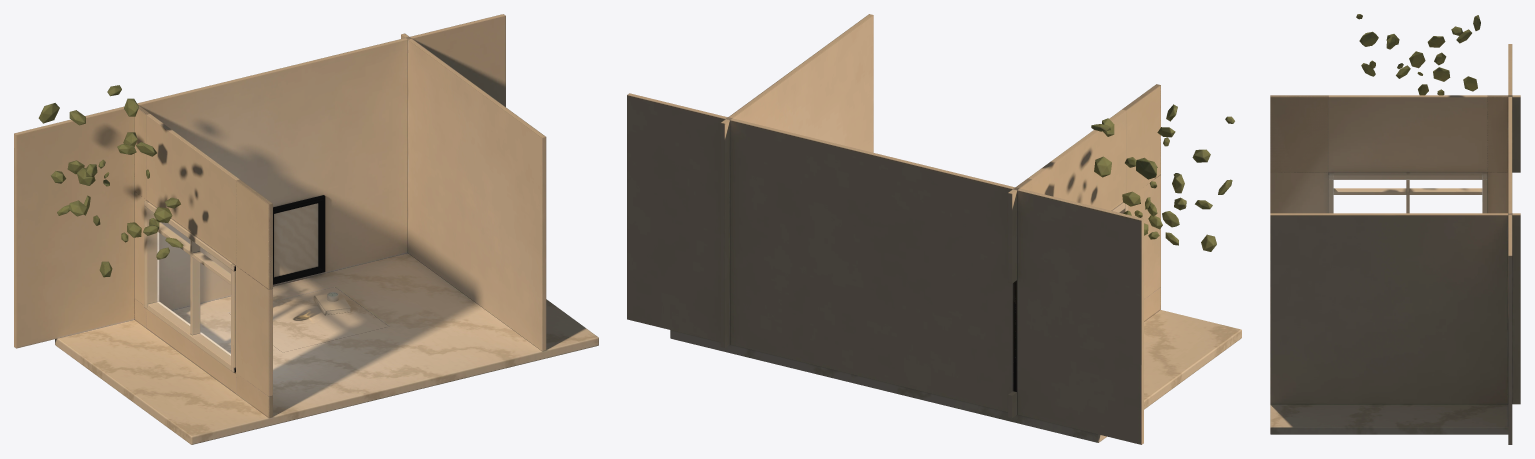
The model's file is Room_1.glb.
3 renders of one model, left to right at view 1: azimuth 30°, elevation 25°; view 2: azimuth 150°, elevation 25°; view 3: azimuth 270°, elevation 25°, orthographic. The views are drawn at different scales.
Parts seen in each view (by area): view 1: Cube001_1, Cube001, Cube001_2, Cube001_4, Cube001_6, BakedHero_warm, Gold_frame_moulding001_1, Cube001_3, Cube001_5, Cube001_7, Gold_frame_moulding001, Cube001_9 (+3 smaller); view 2: Cube001_1, Cube001_2, Cube001, Cube001_4, Cube001_6, Cube001_3; view 3: Cube001_2, Cube001_4, Cube001, Cube001_6, Cube001_5, Cube001_1, Cube001_8, Cube001_12.
Boxes of the visible parts, x1,y1,x2,y2 form: Cube001_1: [14, 14, 505, 348]; Cube001: [55, 253, 598, 444]; Cube001_2: [401, 33, 546, 351]; Cube001_4: [134, 107, 272, 289]; Cube001_6: [236, 180, 272, 417]; BakedHero_warm: [229, 287, 388, 352]; Gold_frame_moulding001_1: [274, 203, 318, 277]; Cube001_3: [134, 299, 272, 417]; Cube001_5: [134, 105, 146, 327]; Cube001_7: [144, 301, 235, 372]; Gold_frame_moulding001: [273, 195, 325, 284]; Cube001_9: [144, 200, 159, 307]; Cube001_1: [627, 93, 1143, 444]; Cube001_2: [720, 14, 873, 347]; Cube001: [670, 310, 1241, 442]; Cube001_4: [1008, 84, 1160, 283]; Cube001_6: [1126, 84, 1160, 321]; Cube001_3: [1008, 287, 1160, 417]; Cube001_2: [1270, 213, 1520, 404]; Cube001_4: [1270, 95, 1520, 172]; Cube001: [1270, 404, 1508, 434]; Cube001_6: [1270, 95, 1328, 213]; Cube001_5: [1487, 95, 1508, 213]; Cube001_1: [1508, 44, 1512, 444]; Cube001_8: [1328, 172, 1487, 179]; Cube001_12: [1333, 188, 1482, 194].
Size of the model in its own units: 1.21 by 0.6415 by 0.6.
Materials: 53 (52 with a texture image).
